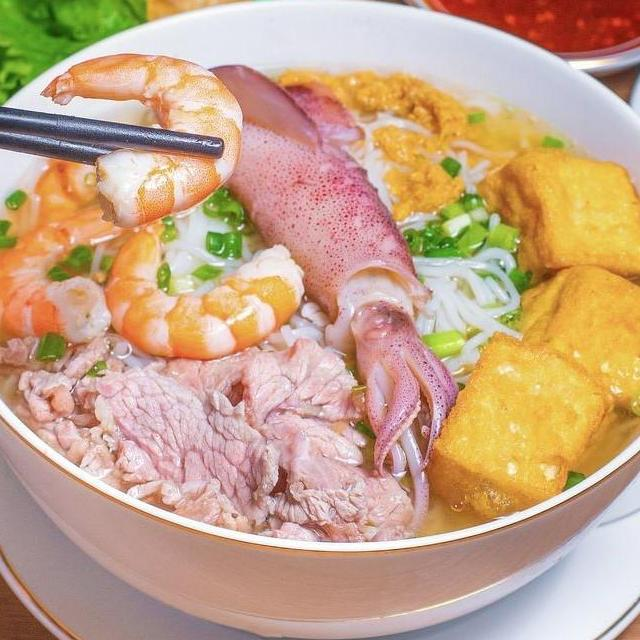bun: (387, 192, 530, 387), (341, 109, 501, 231), (153, 196, 272, 301)
bun hai san: (0, 61, 640, 555)
dau hu: (417, 325, 621, 530), (470, 140, 640, 291), (507, 257, 640, 429)
muc: (189, 59, 464, 483)
thit bo: (227, 331, 426, 556), (85, 349, 285, 540)
tom: (34, 46, 250, 232), (96, 201, 315, 371), (0, 193, 181, 349)
